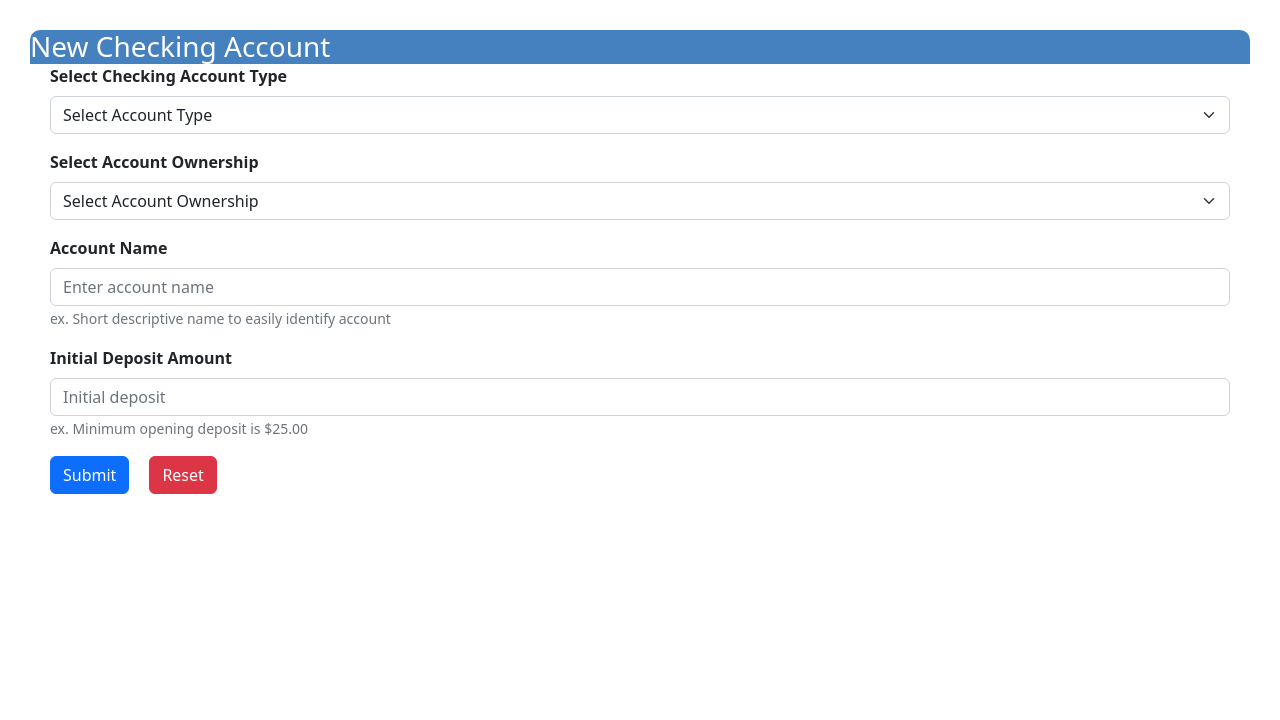
FormCreateChecking tests › Required fields must be displayed
Click the button "Submit". click: point(90, 475)
box: 50,456 -> 129,494
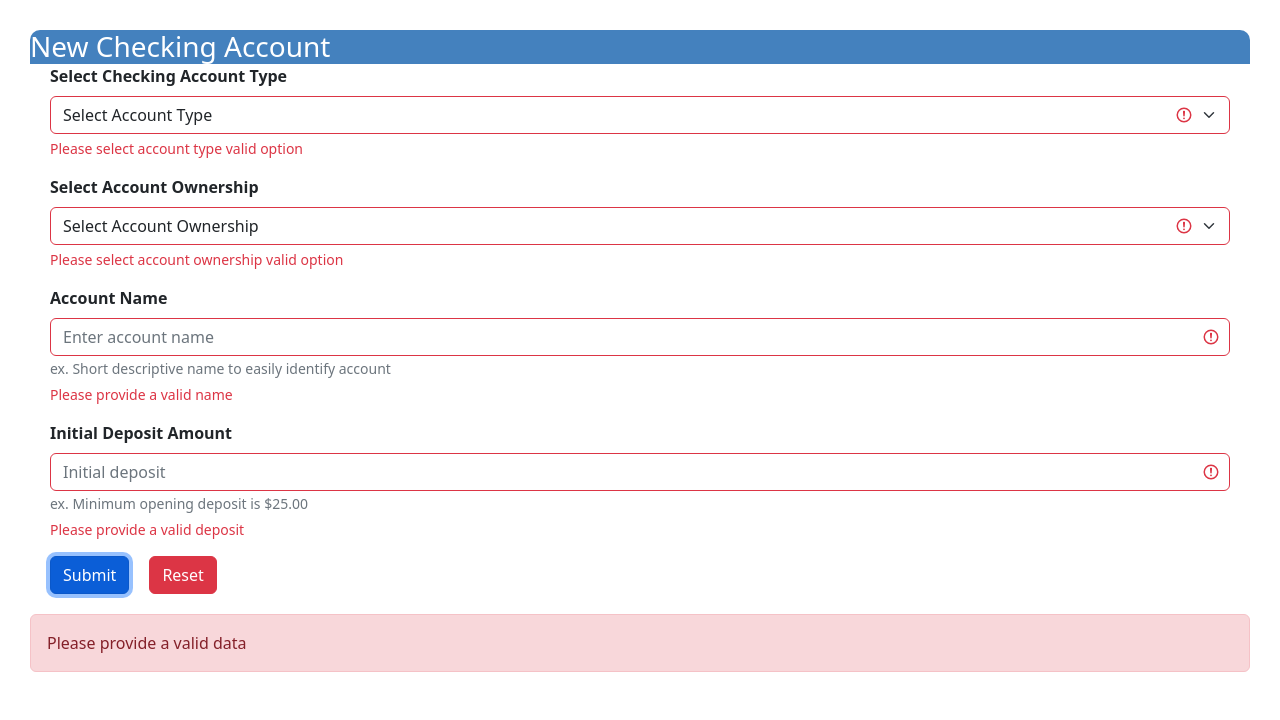
Expected: the text "Please select account type valid option" is shown, 50,139 -> 303,158
Expected: the text "Please select account ownership valid option" is shown, 50,250 -> 343,269
Expected: the text "Please provide a valid name" is shown, 50,385 -> 233,404
